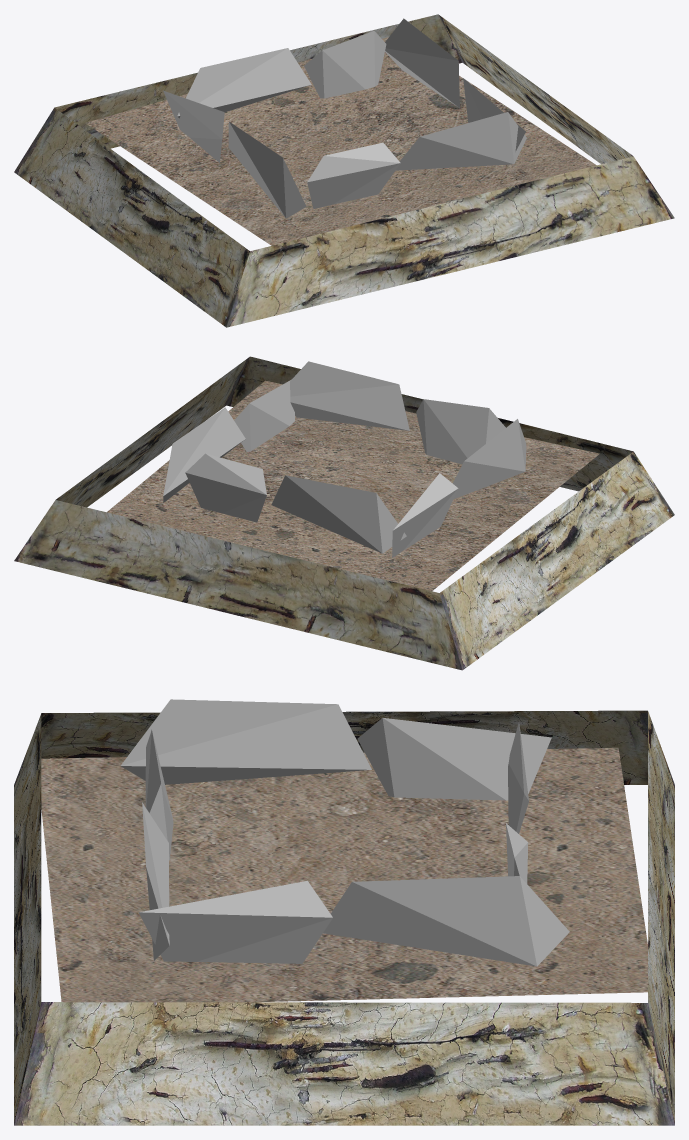
Rendered from Fireplace_1_LOD4.fbx.
The picture shows the model from 3 angles, top to bottom: view 1: azimuth 30°, elevation 25°; view 2: azimuth 150°, elevation 25°; view 3: azimuth 270°, elevation 25°; orthographic projection. The views are drawn at different scales.
Visible parts, largest first — view 1: Cube, Cube_2_2, Cube_2; view 2: Cube, Cube_2_2, Cube_2; view 3: Cube, Cube_2_2, Cube_2.
Part boxes in pixels (x1=…): Cube: x1=14, y1=14, x2=674, y2=327; Cube_2_2: x1=85, y1=37, x2=596, y2=245; Cube_2: x1=163, y1=18, x2=526, y2=218; Cube: x1=14, y1=356, x2=674, y2=670; Cube_2_2: x1=93, y1=380, x2=599, y2=591; Cube_2: x1=163, y1=361, x2=526, y2=557; Cube: x1=14, y1=710, x2=674, y2=1125; Cube_2_2: x1=41, y1=747, x2=654, y2=1002; Cube_2: x1=120, y1=699, x2=569, y2=966.
Size of the model in its own units: 203 by 167 by 46.61.
